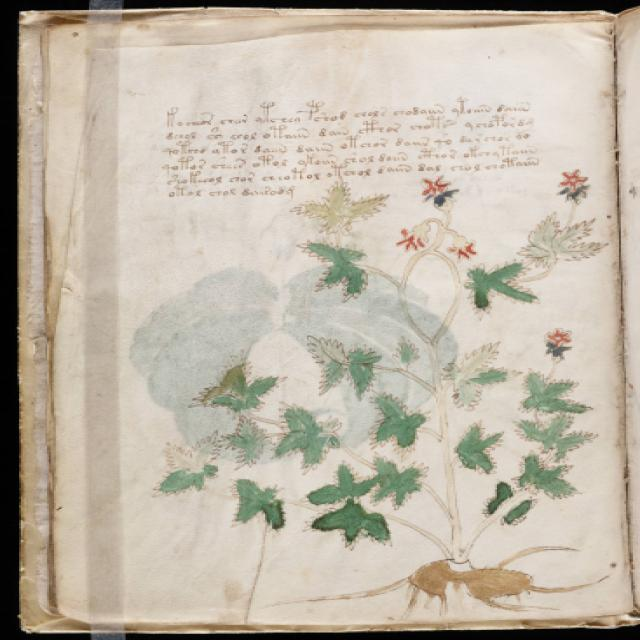plant: (146, 168, 616, 618)
